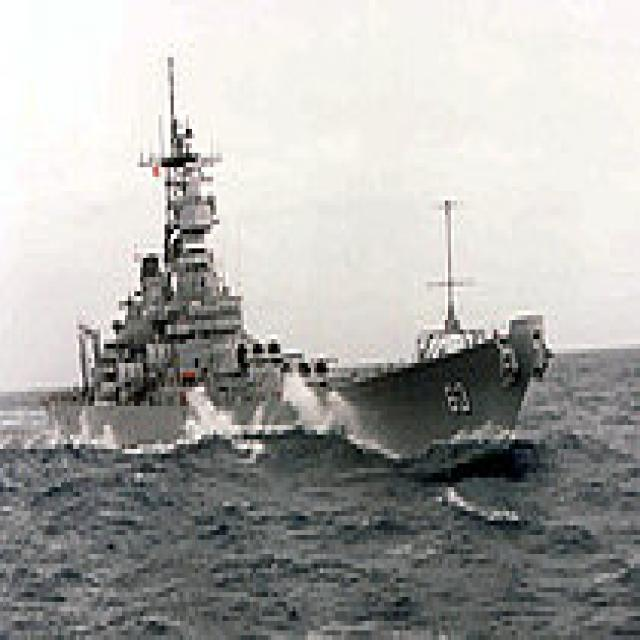boat: (65, 121, 531, 442)
